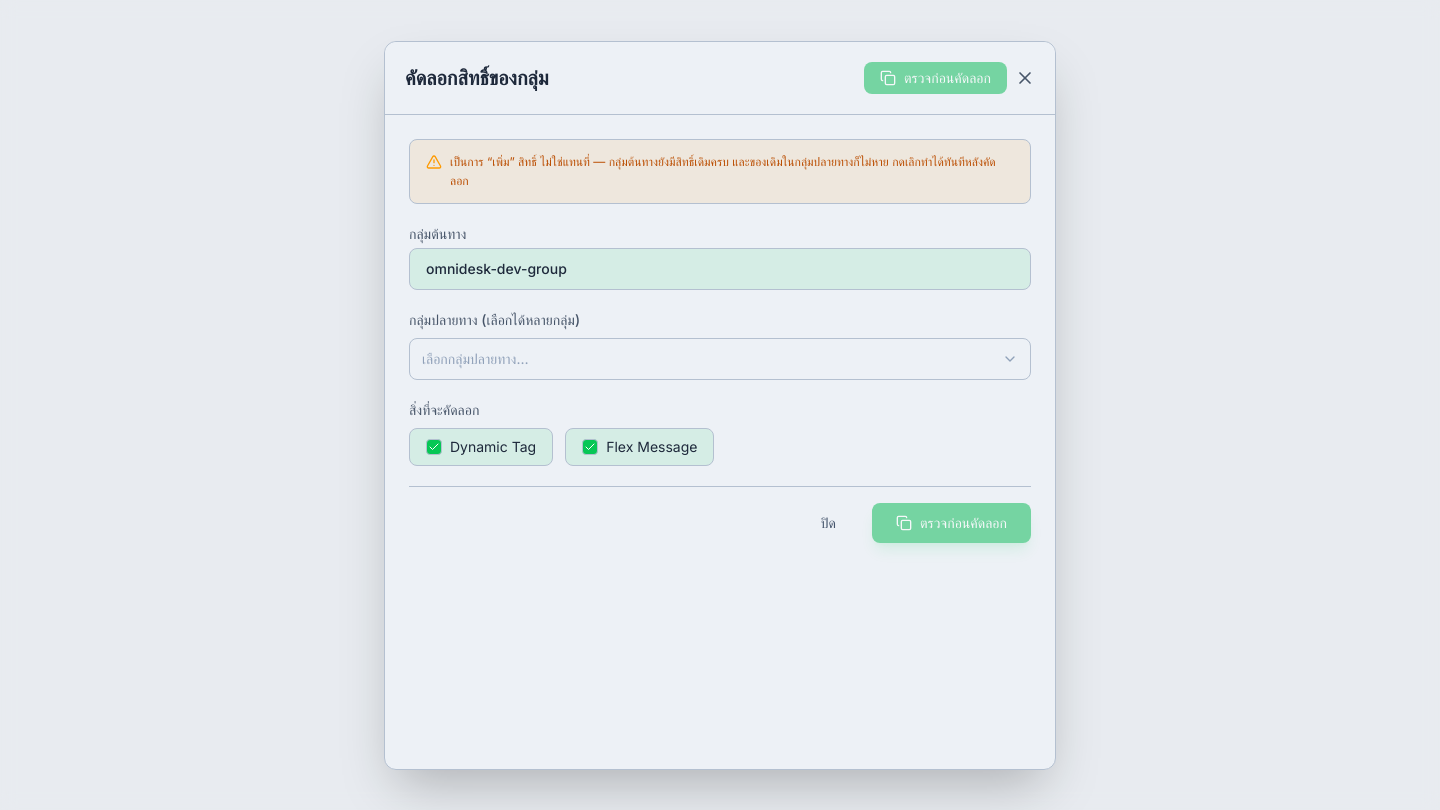
Test: GroupScopeCloneModal › offers every other group as a target, but never the source itself
Click the button with test id "group-picker-trigger". click: (475, 358)
box: left=409, top=338, right=1031, bottom=380
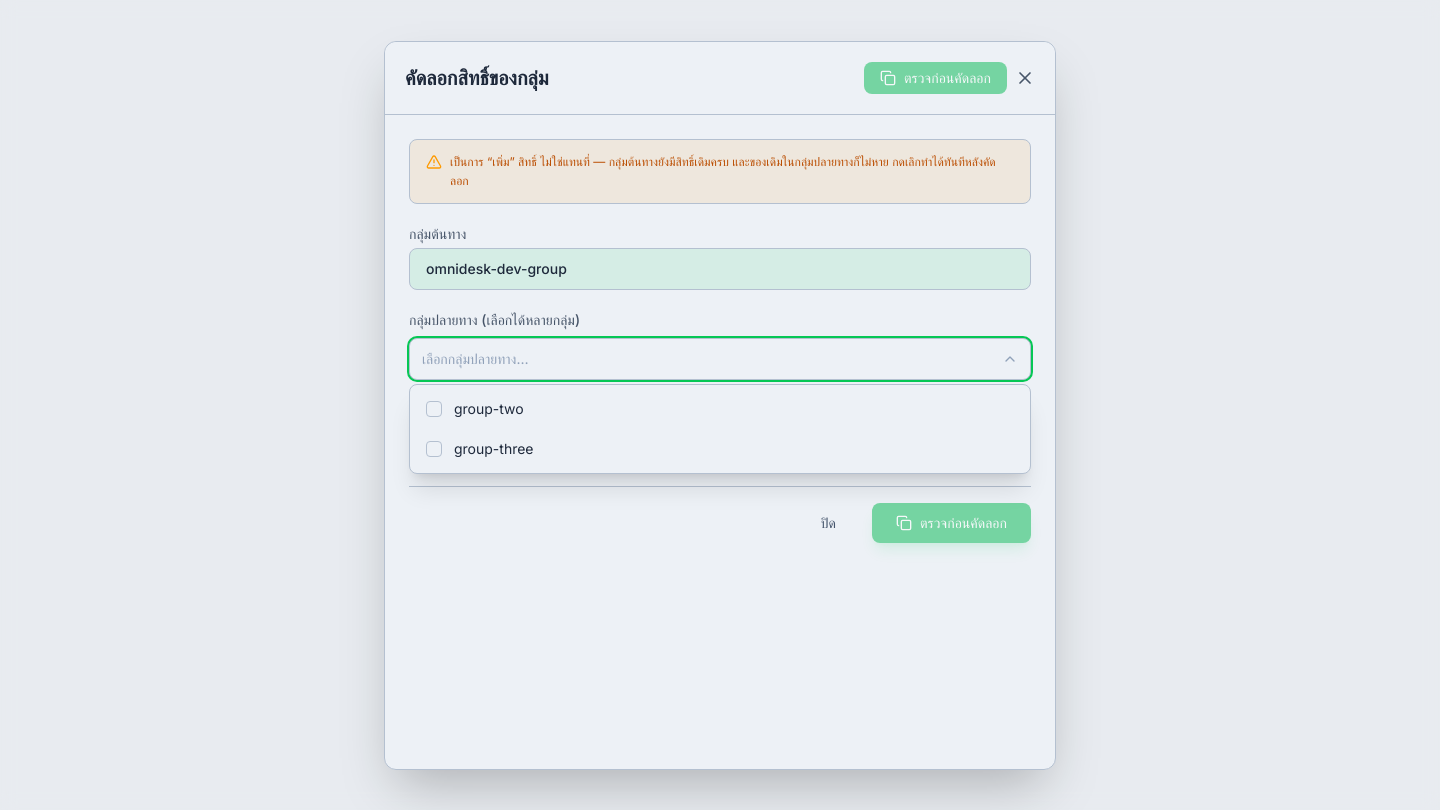
Expected: the text "omnidesk-dev-group" is shown once, left=409, top=248, right=1031, bottom=290
Expected: the text "group-two" is shown, left=454, top=398, right=524, bottom=418
Expected: the text "group-three" is shown, left=454, top=438, right=534, bottom=458
